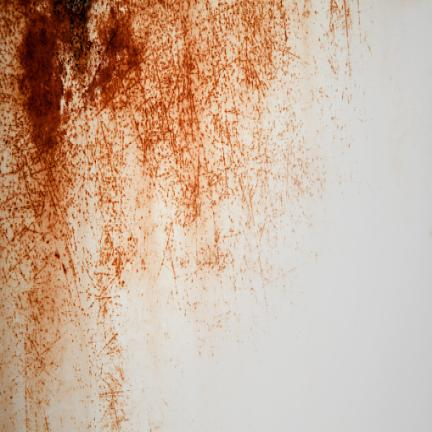besi_tidak_karat: (167, 2, 431, 431)
karat: (21, 12, 62, 154)
